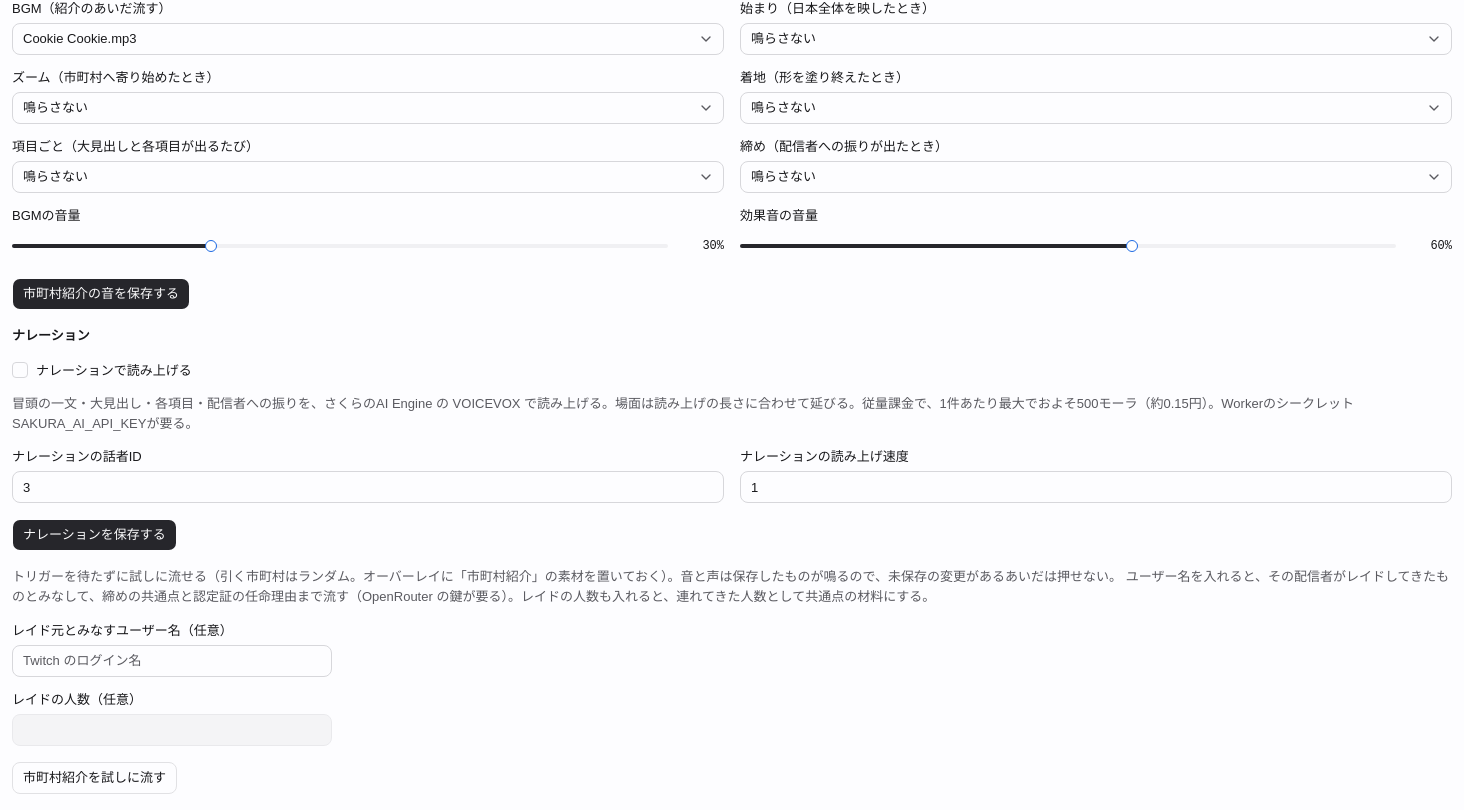
it: TownTourSoundCard › 試し再生を押すと、Workerに流させ、送った一文を知らせる
(page scrolled)
Click the button "市町村紹介を試しに流す": (94, 778) top-left (12, 762), bottom-right (177, 794)
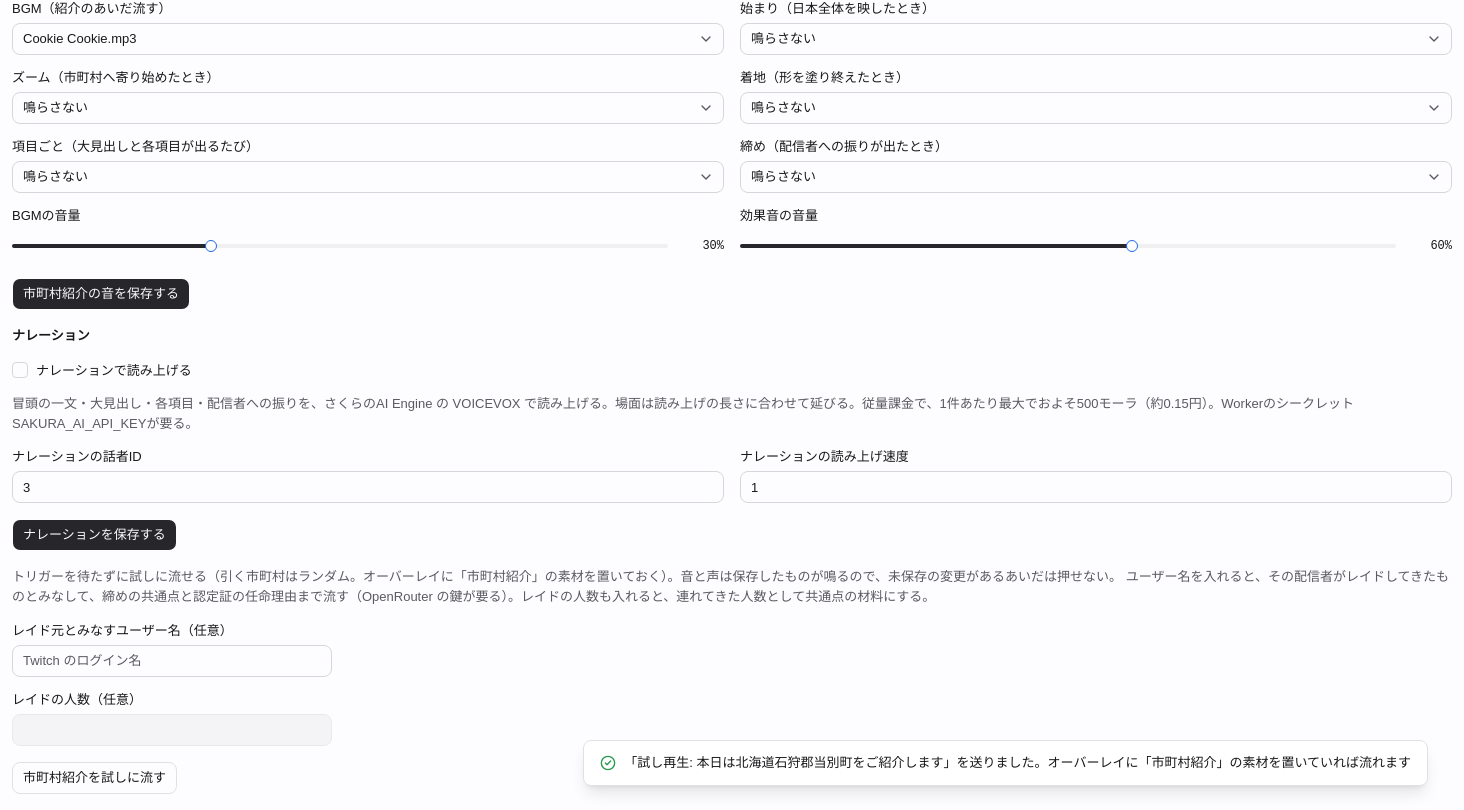
Expected: the text "「試し再生: 本日は北海道石狩郡当別町をご紹介します」を送りました。オーバーレイに「市町村紹介」の素材を置いていれば流れます" is shown, top-left (583, 740), bottom-right (1428, 786)
